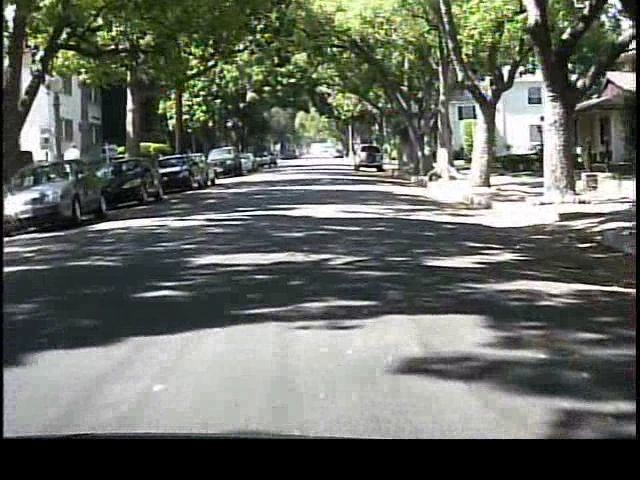person: (63, 141, 89, 199)
